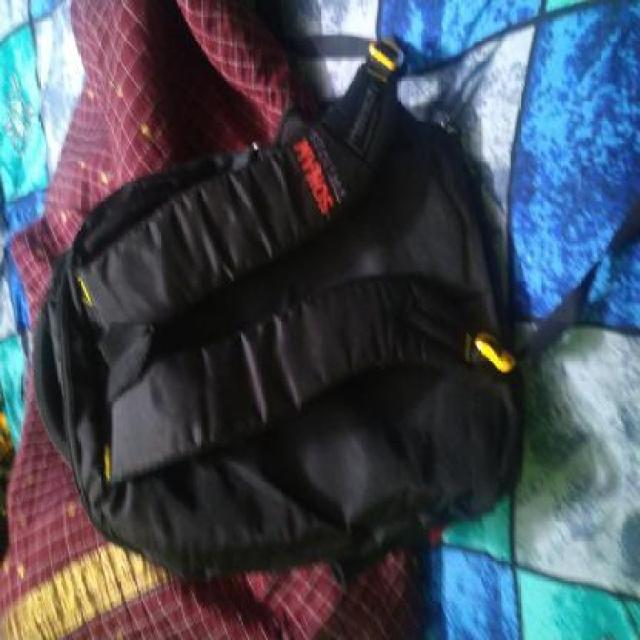backpack: (25, 30, 532, 588)
